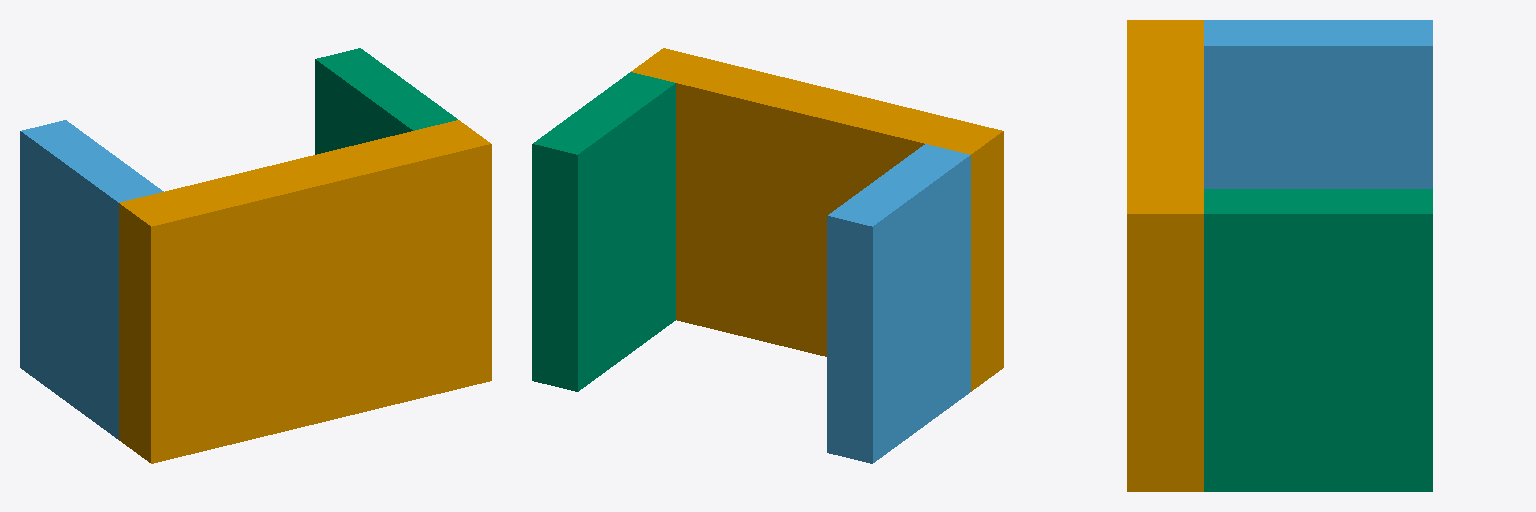
URDF robot description (hook):
<?xml version="1.0" ?>
<!-- =================================================================================== -->
<!-- |    This document was autogenerated by xacro from src/robot_description/rb_theron_common/rb_theron_description/urdf/door_opening_mechanism/components/hook.urdf.xacro | -->
<!-- |    EDITING THIS FILE BY HAND IS NOT RECOMMENDED                                 | -->
<!-- =================================================================================== -->
<robot name="hook">
  <link name="hook_base_link">
    <inertial>
      <mass value="0.1"/>
      <origin xyz="0 0 0"/>
      <inertia ixx="1.4166666666666668e-05" ixy="0" ixz="0" iyy="4.333333333333333e-05" iyz="0" izz="3.0833333333333335e-05"/>
    </inertial>
    <visual>
      <origin rpy="0 0 0" xyz="0 0 0"/>
      <geometry>
        <box size="0.06 0.01 0.04"/>
      </geometry>
    </visual>
    <collision>
      <origin rpy="0 0 0" xyz="0 0 0"/>
      <geometry>
        <box size="0.06 0.01 0.04"/>
      </geometry>
    </collision>
  </link>
  <gazebo reference="hook_base_link">
    <visual>
      <material>
        <!-- RGBA -->
        <ambient>1 0 1 1</ambient>
        <diffuse>1 0 1 1</diffuse>
        <specular>1 0 1 1</specular>
      </material>
    </visual>
  </gazebo>
  <joint name="hook_joint_front_side" type="fixed">
    <parent link="hook_base_link"/>
    <child link="hook_link_front_side"/>
    <origin rpy="0 0 0" xyz="-0.026 0.02 0"/>
  </joint>
  <link name="hook_link_front_side">
    <inertial>
      <mass value="0.1"/>
      <origin xyz="0 0 0"/>
      <inertia ixx="2.0833333333333333e-05" ixy="0" ixz="0" iyy="1.3866666666666669e-05" iyz="0" izz="8.033333333333335e-06"/>
    </inertial>
    <visual>
      <origin rpy="0 0 0" xyz="0 0 0"/>
      <geometry>
        <box size="0.008 0.03 0.04"/>
      </geometry>
    </visual>
    <collision>
      <origin rpy="0 0 0" xyz="0 0 0"/>
      <geometry>
        <box size="0.008 0.03 0.04"/>
      </geometry>
    </collision>
  </link>
  <gazebo reference="hook_link_front_side">
    <visual>
      <material>
        <!-- RGBA -->
        <ambient>1 0 1 1</ambient>
        <diffuse>1 0 1 1</diffuse>
        <specular>1 0 1 1</specular>
      </material>
    </visual>
  </gazebo>
  <joint name="hook_joint_back_side" type="fixed">
    <parent link="hook_base_link"/>
    <child link="hook_link_back_side"/>
    <origin rpy="0 0 0" xyz="+0.026 0.02 0"/>
  </joint>
  <link name="hook_link_back_side">
    <inertial>
      <mass value="0.1"/>
      <origin xyz="0 0 0"/>
      <inertia ixx="2.0833333333333333e-05" ixy="0" ixz="0" iyy="1.3866666666666669e-05" iyz="0" izz="8.033333333333335e-06"/>
    </inertial>
    <visual>
      <origin rpy="0 0 0" xyz="0 0 0"/>
      <geometry>
        <box size="0.008 0.03 0.04"/>
      </geometry>
    </visual>
    <collision>
      <origin rpy="0 0 0" xyz="0 0 0"/>
      <geometry>
        <box size="0.008 0.03 0.04"/>
      </geometry>
    </collision>
  </link>
  <gazebo reference="hook_link_back_side">
    <visual>
      <material>
        <!-- RGBA -->
        <ambient>1 0 1 1</ambient>
        <diffuse>1 0 1 1</diffuse>
        <specular>1 0 1 1</specular>
      </material>
    </visual>
  </gazebo>
</robot>

--- Facts derived from the render (not from the file) ---
Views: 3 orthographic renders of the robot side by side, from view 1: azimuth 30°, elevation 25°; view 2: azimuth 150°, elevation 25°; view 3: azimuth 270°, elevation 25°.
Model hook with 3 links and 2 joints (2 fixed), rooted at hook_base_link, posed every joint at zero.
Links seen in each view (by area): view 1: hook_base_link, hook_link_front_side, hook_link_back_side; view 2: hook_base_link, hook_link_back_side, hook_link_front_side; view 3: hook_link_back_side, hook_link_front_side, hook_base_link.
Boxes of the visible links, bbox=[...] form: hook_base_link: bbox=[119, 120, 491, 463]; hook_link_front_side: bbox=[20, 120, 163, 439]; hook_link_back_side: bbox=[315, 48, 457, 154]; hook_base_link: bbox=[631, 48, 1003, 391]; hook_link_back_side: bbox=[532, 72, 675, 391]; hook_link_front_side: bbox=[827, 144, 970, 463]; hook_link_back_side: bbox=[1204, 189, 1432, 491]; hook_link_front_side: bbox=[1204, 20, 1432, 188]; hook_base_link: bbox=[1127, 20, 1203, 491].
Size in the robot's own frame: 0.06 by 0.04 by 0.04 metres.
Geometry: primitives only (box / cylinder / sphere), no mesh files.
